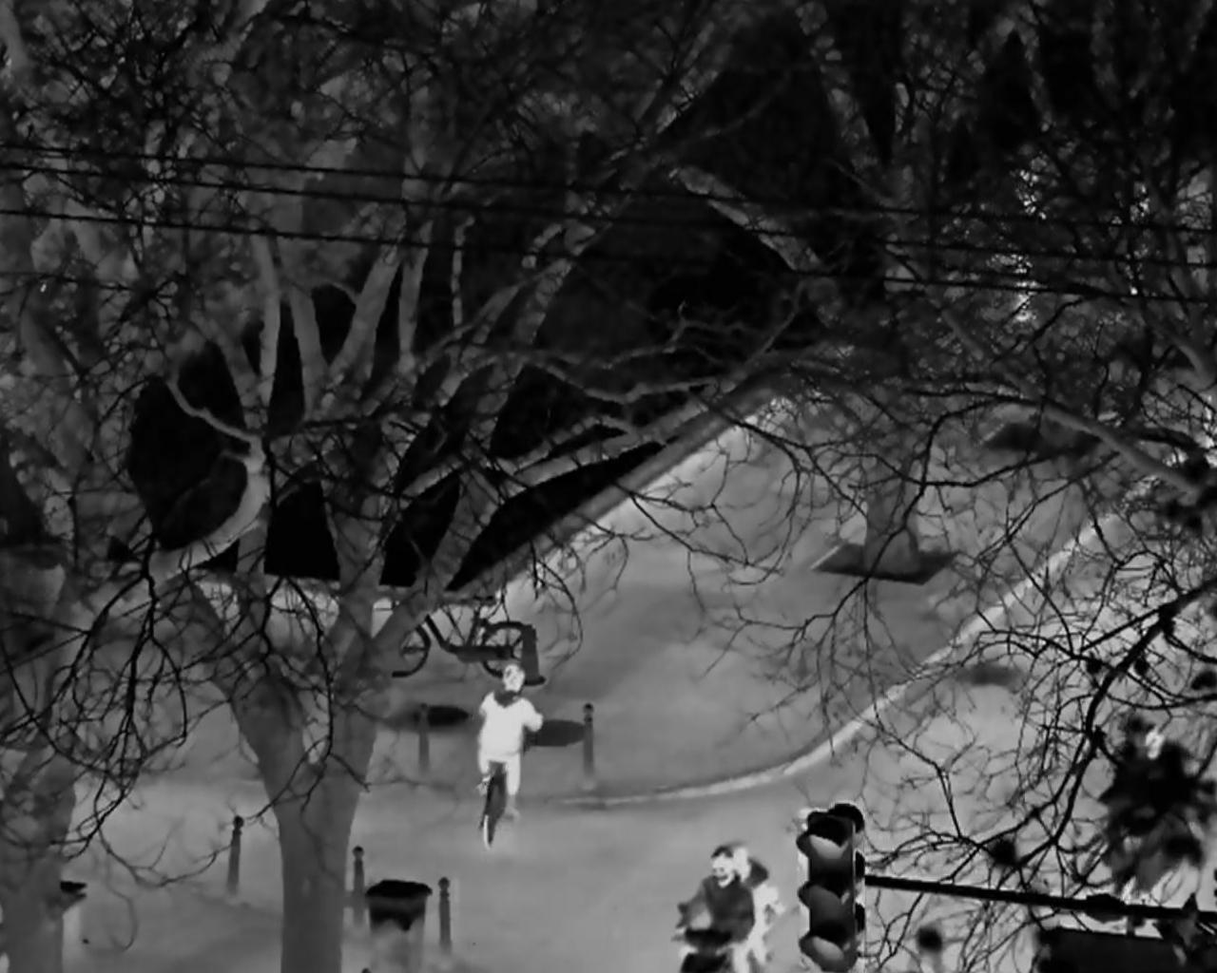person: (478, 662, 545, 827), (678, 847, 755, 973)
